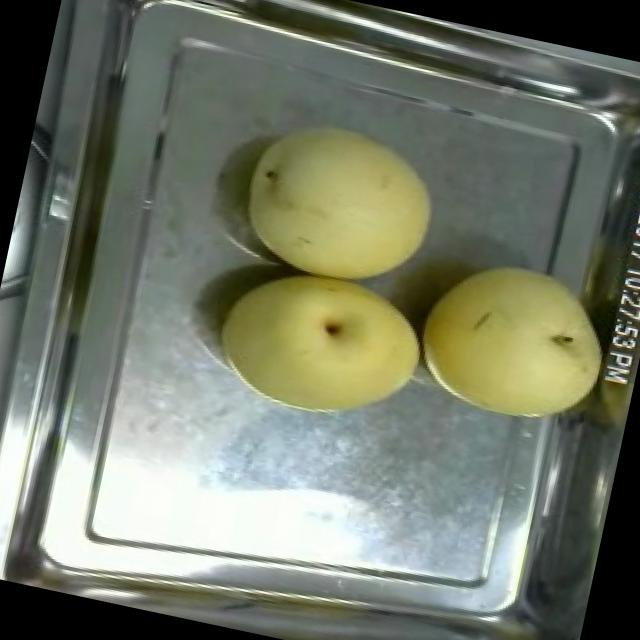Fruit: (401, 238, 633, 444), (198, 252, 442, 442), (226, 101, 456, 301)
